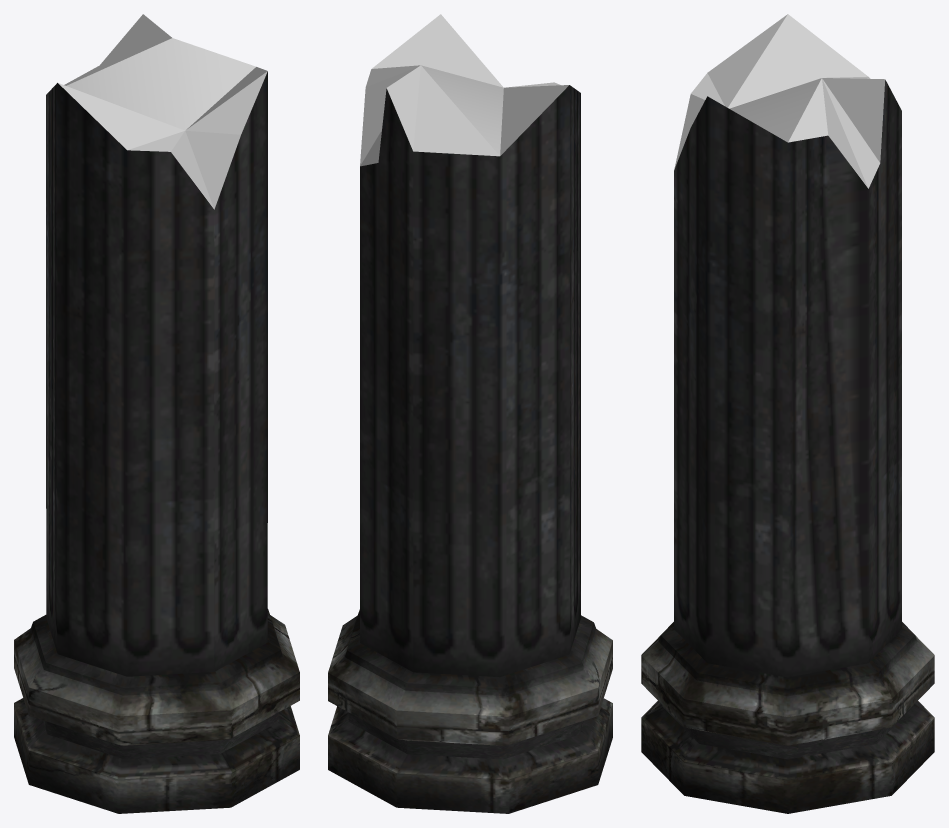
File: roman_decayed2.dae
3 renders of one model, left to right at view 1: azimuth 30°, elevation 25°; view 2: azimuth 150°, elevation 25°; view 3: azimuth 270°, elevation 25°, orthographic.
Parts seen in each view (by area): view 1: polySurface4, polySurface2; view 2: polySurface4, polySurface2; view 3: polySurface4, polySurface2.
Part boxes in pixels (x1=…): polySurface4: x1=14, y1=71, x2=299, y2=813; polySurface2: x1=58, y1=14, x2=267, y2=209; polySurface4: x1=328, y1=85, x2=612, y2=813; polySurface2: x1=360, y1=14, x2=568, y2=166; polySurface4: x1=641, y1=80, x2=934, y2=813; polySurface2: x1=674, y1=14, x2=885, y2=188.
Bounding box in the file's own units: 0.9859 × 2.56 × 0.9859.
